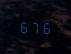seven: (30, 19, 40, 34)
six: (18, 19, 28, 33), (41, 20, 51, 34)
